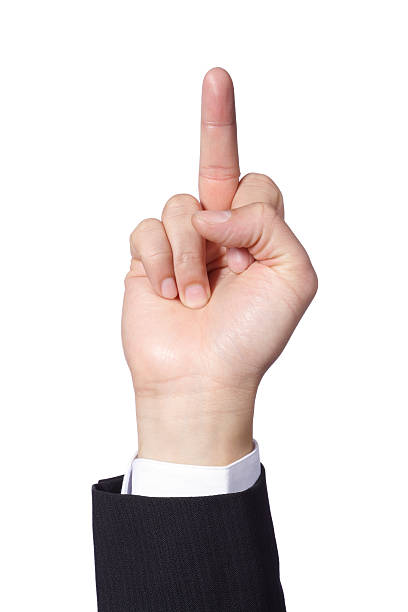insulting_gesture: (120, 65, 323, 404)
